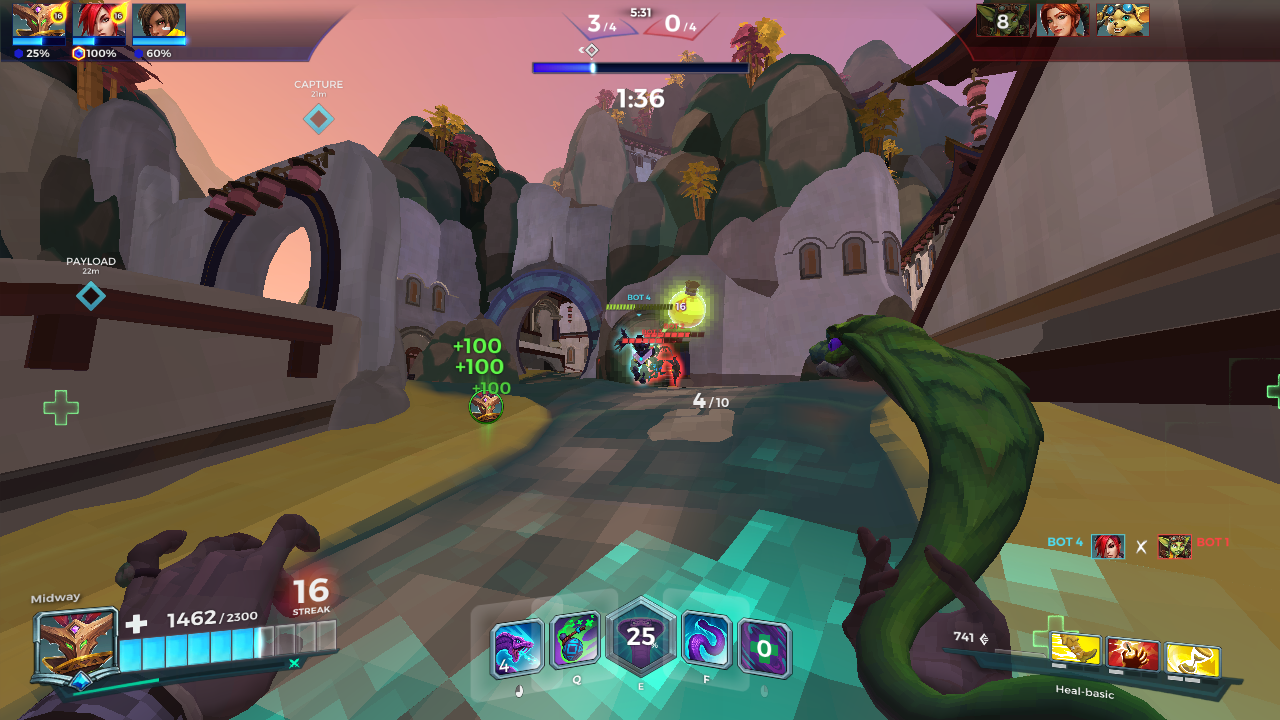model: (668, 348, 690, 387), (642, 351, 662, 378)
